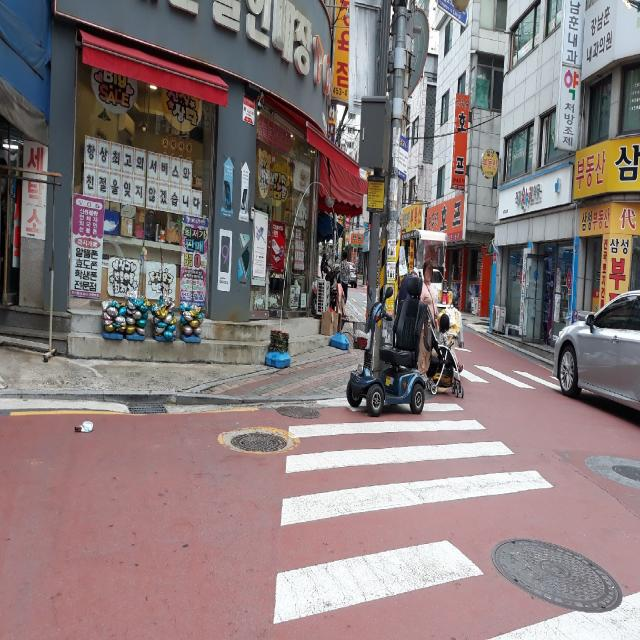횡단보도: (270, 391, 639, 640)
